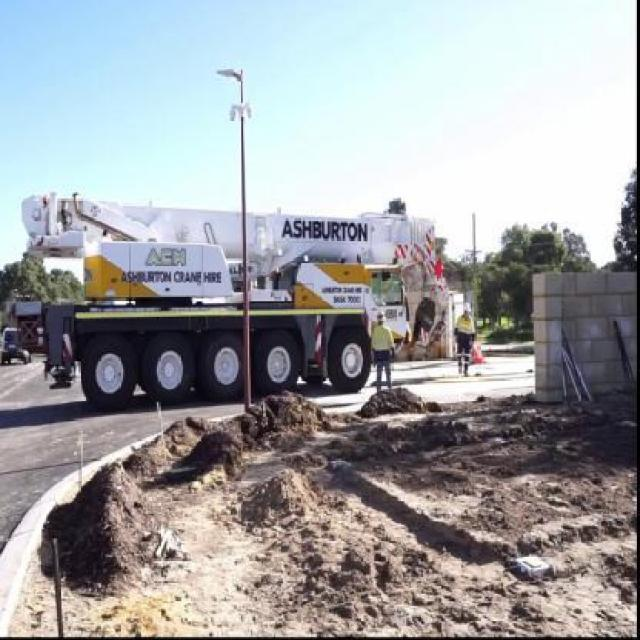Mobile Crane: (20, 193, 442, 405)
